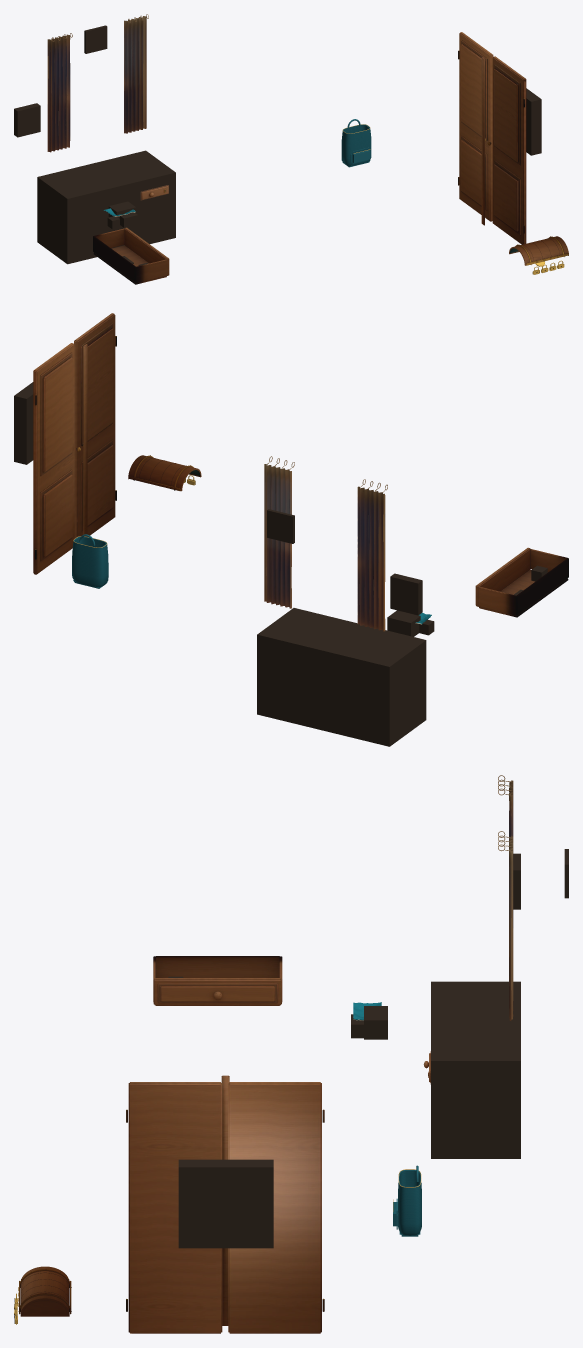
Rendered from props.glb.
3 views of the same model, one above another, from view 1: azimuth 30°, elevation 25°; view 2: azimuth 150°, elevation 25°; view 3: azimuth 270°, elevation 25° (orthographic). The views are drawn at different scales.
Parts seen in each view (by area): view 1: HIT_maktab, _C5_ANIM_wardrobe_L, _C5_ANIM_wardrobe_R, _C5_ANIM_drawer_chest, ANIM_curtain_L, ANIM_curtain_R, ANIM_backpack, _C5_ANIM_box_lid.002, HIT_qamis, HIT_kitab, HIT_qamar; view 2: HIT_maktab, _C5_ANIM_wardrobe_R, _C5_ANIM_wardrobe_L, ANIM_curtain_L, _C5_ANIM_drawer_chest, ANIM_curtain_R, ANIM_backpack, _C5_ANIM_box_lid.002, HIT_qamis, HIT_kitab, HIT_qamar, HIT_mawz; view 3: _C5_ANIM_wardrobe_L, _C5_ANIM_wardrobe_R, HIT_maktab, HIT_qamis, _C5_ANIM_drawer_chest, _C5_ANIM_box_lid.002, ANIM_backpack, ANIM_curtain_R, HIT_mawz.
Part boxes in pixels (x1,y1,x2,y2): HIT_maktab: (37,150,175,264); _C5_ANIM_wardrobe_L: (481,56,526,244); _C5_ANIM_wardrobe_R: (458,32,493,221); _C5_ANIM_drawer_chest: (93,227,169,284); ANIM_curtain_L: (47,33,72,152); ANIM_curtain_R: (124,14,148,133); ANIM_backpack: (341,119,371,167); _C5_ANIM_box_lid.002: (509,236,568,265); HIT_qamis: (526,88,541,155); HIT_kitab: (14,103,40,137); HIT_qamar: (84,25,107,53); HIT_maktab: (257,608,426,746); _C5_ANIM_wardrobe_R: (33,343,80,574); _C5_ANIM_wardrobe_L: (74,313,116,538); ANIM_curtain_L: (357,479,387,631); _C5_ANIM_drawer_chest: (475,547,568,617); ANIM_curtain_R: (264,456,294,608); ANIM_backpack: (72,534,108,588); _C5_ANIM_box_lid.002: (128,455,201,491); HIT_qamis: (14,382,33,464); HIT_kitab: (390,573,422,615); HIT_qamar: (267,509,294,543); HIT_mawz: (387,610,420,636); _C5_ANIM_wardrobe_L: (126,1075,229,1333); _C5_ANIM_wardrobe_R: (228,1082,324,1333); HIT_maktab: (431,981,520,1158); HIT_qamis: (178,1159,273,1248); _C5_ANIM_drawer_chest: (153,956,282,1005); _C5_ANIM_box_lid.002: (18,1266,71,1316); ANIM_backpack: (393,1165,421,1236); ANIM_curtain_R: (498,831,513,1020); HIT_mawz: (364,1006,387,1039).
Bounding box in the file's own units: 4.77 × 2.28 × 3.7.
16 materials, 10 textured.
